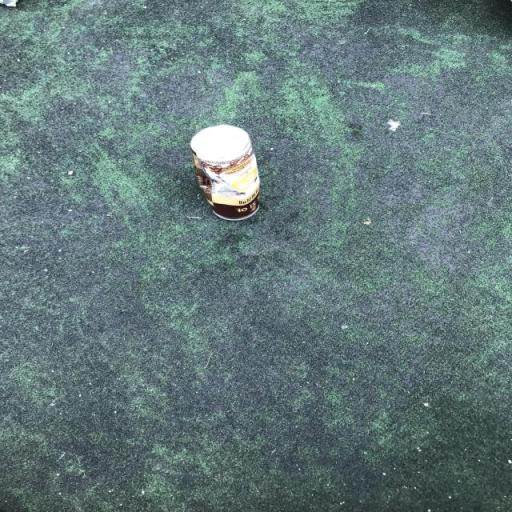metal: (168, 118, 286, 234)
